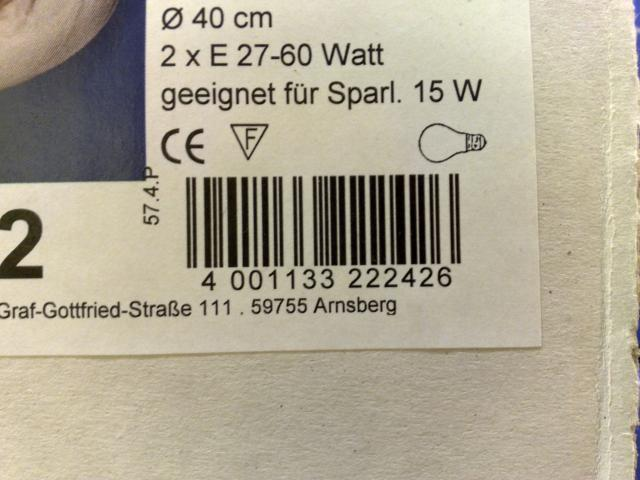Barcode: (177, 168, 475, 296)
